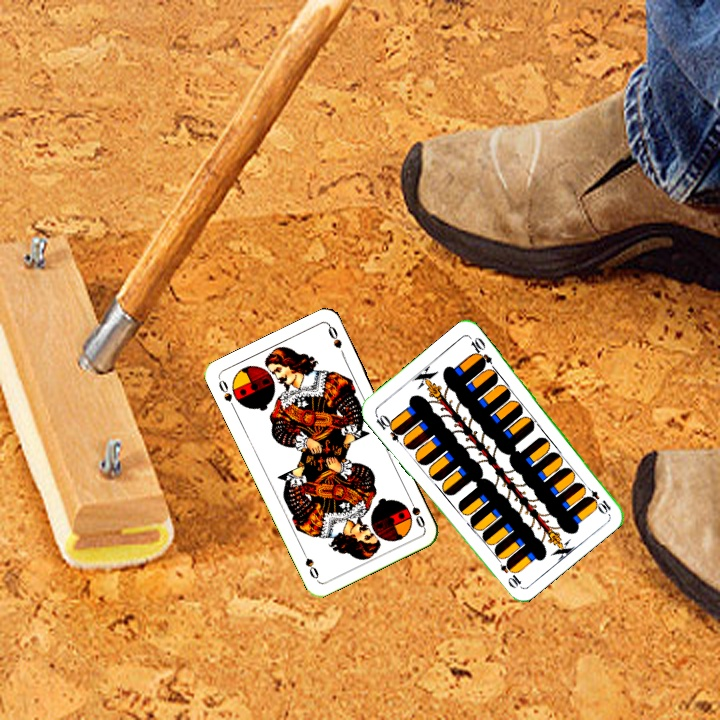E10: (580, 481, 613, 516), (371, 410, 404, 444)
SO: (404, 492, 428, 530), (214, 375, 238, 413)
